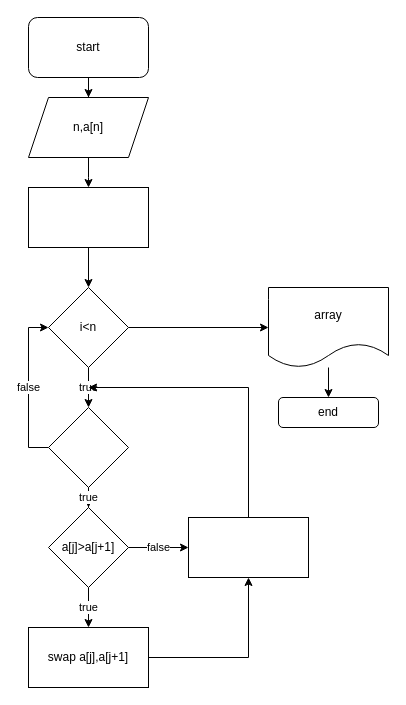
Image size: 406x705. Some labels were removed from this diagram. Here are the shapes that lost their labels. From the top down, the centre of each, then its label:
At (88,217): "i=0,j=0".
At (88,447): "j<n-i-1".
At (248,547): "j=j+1".
